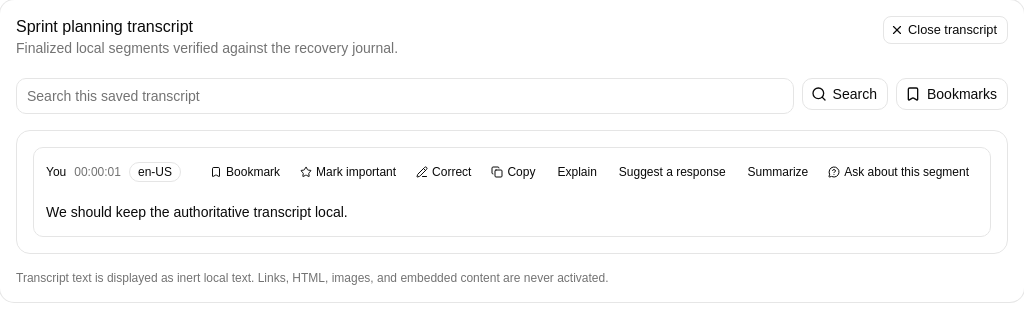
Test: SavedTranscript › copies a segment as speaker, timecode, and text
The image size is (1024, 320).
expect the text "We should keep the authoritative transcript local." is shown: met, box [46, 204, 348, 220]
Click the button "Copy" at (514, 172), box [484, 160, 544, 184]
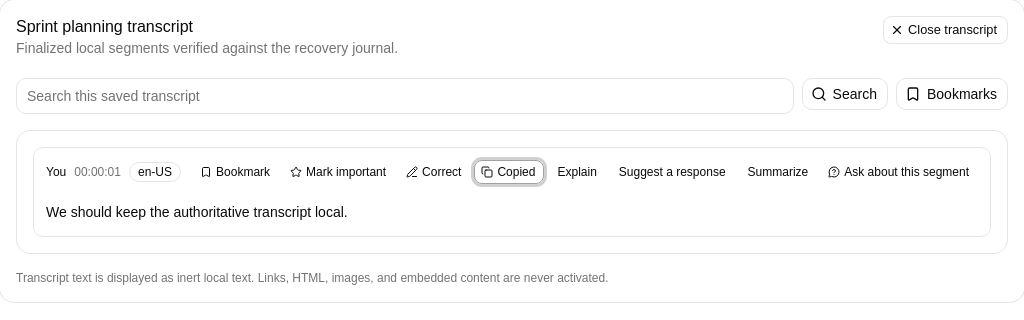
expect the button "Copied" is shown: met, box [474, 160, 544, 184]
